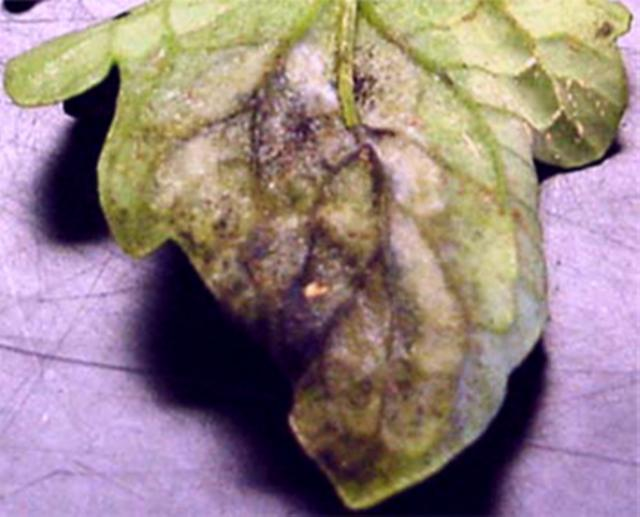Tomato leaf late blight: (8, 10, 628, 506)
